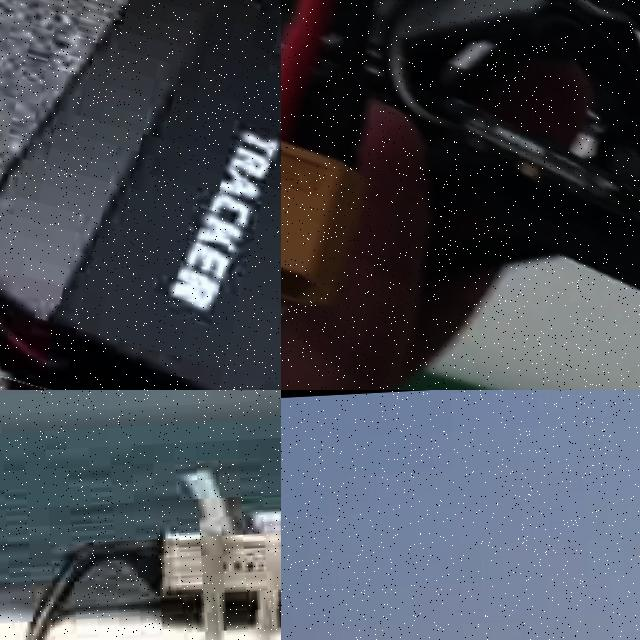drone: (281, 0, 640, 390), (0, 0, 281, 390)
